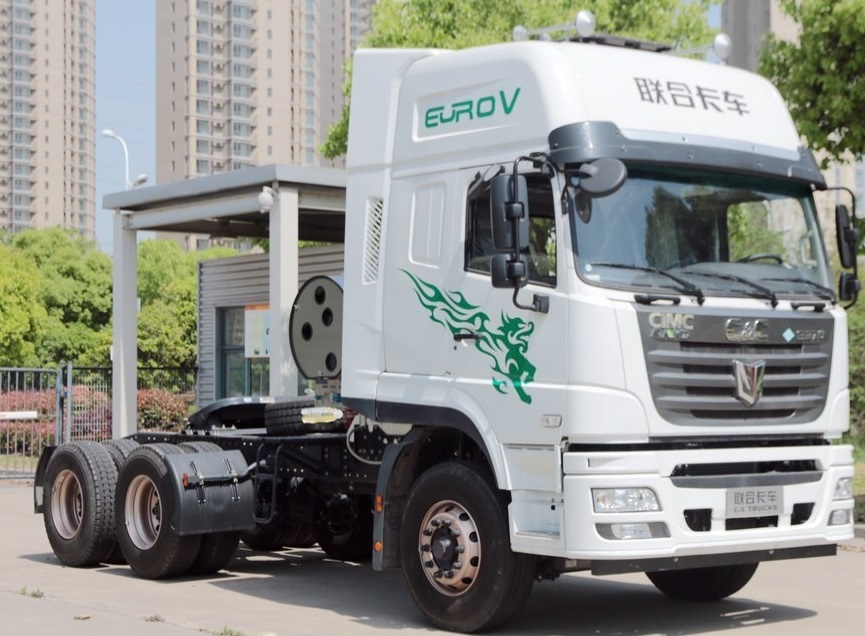heavy truck: (32, 40, 861, 608)
